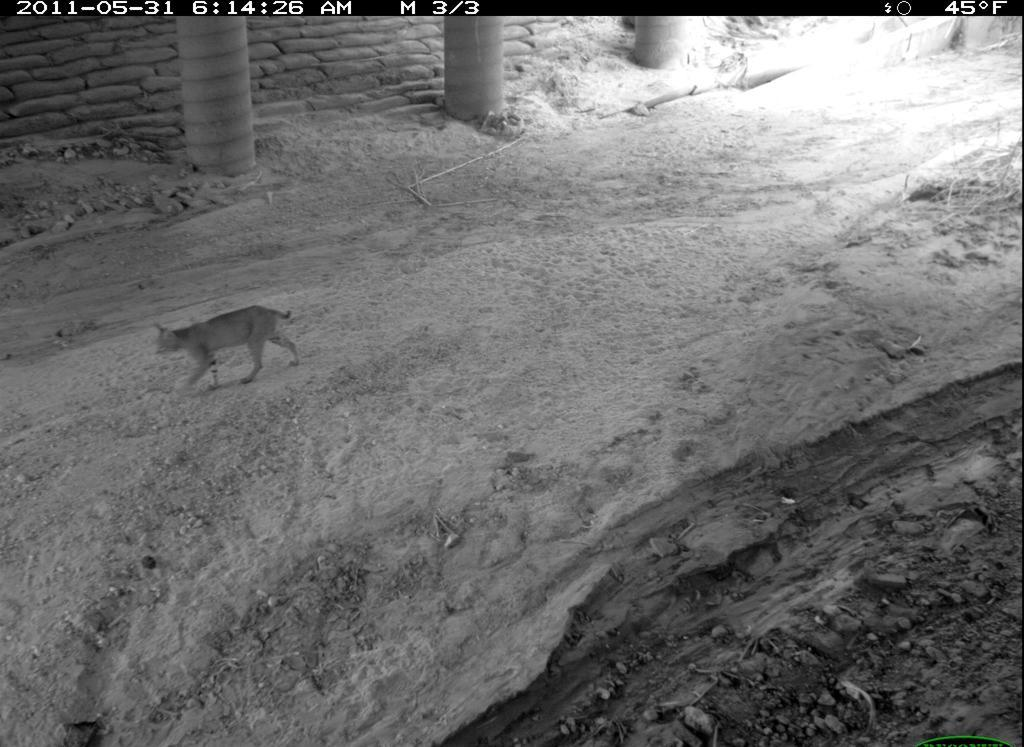bobcat: (149, 300, 310, 399)
